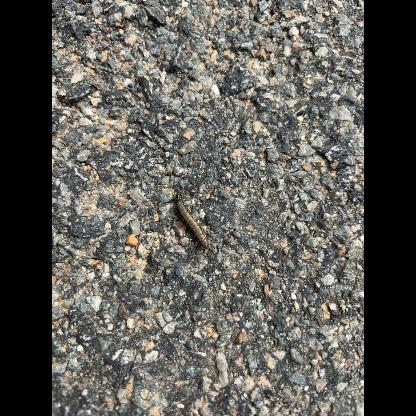Fall Armyworm Larvae: (172, 192, 212, 252)
